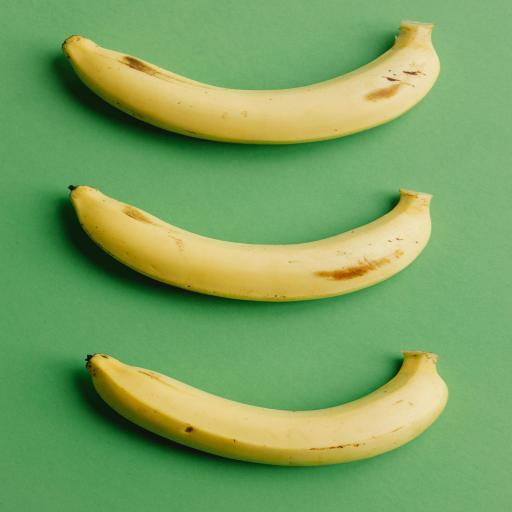banana: (63, 22, 439, 143), (71, 186, 432, 301), (87, 351, 447, 465)
